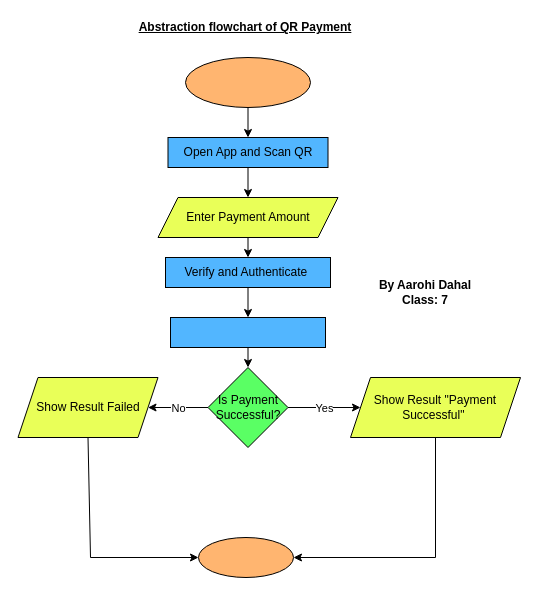
Image size: 538x595. Some labels were removed from this diagram. The centre of each missing label's shape, as x and y in pixels:
End: pixel 246 557
Make Payment: pixel 248 332
Start: pixel 247 82
